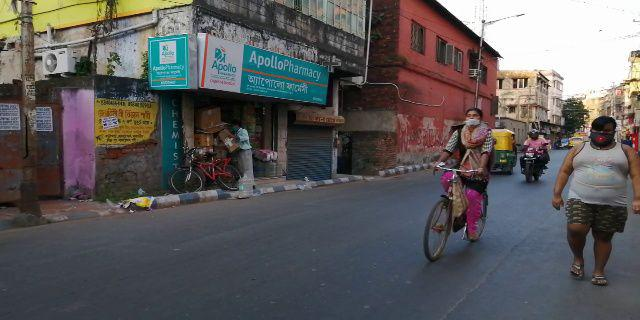Autorickshaw: (492, 127, 518, 179)
Cycle: (420, 107, 495, 270), (166, 142, 243, 195)
Motorbike: (518, 128, 551, 186)
